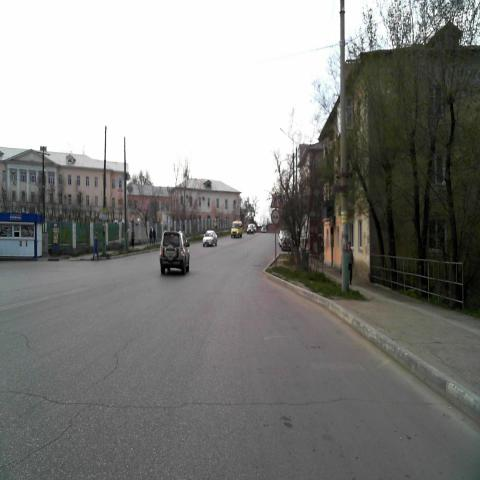1_20_3: (270, 192, 280, 208)
